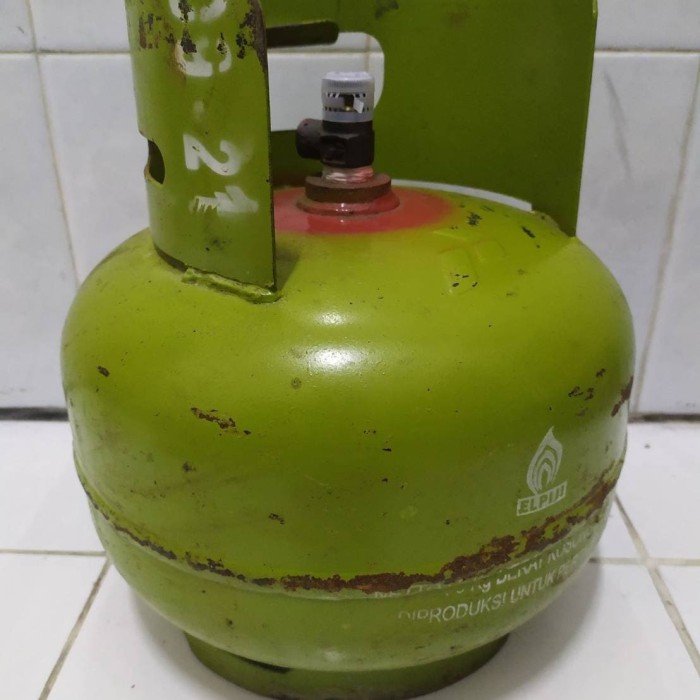gas_ijo: (61, 1, 638, 700)
